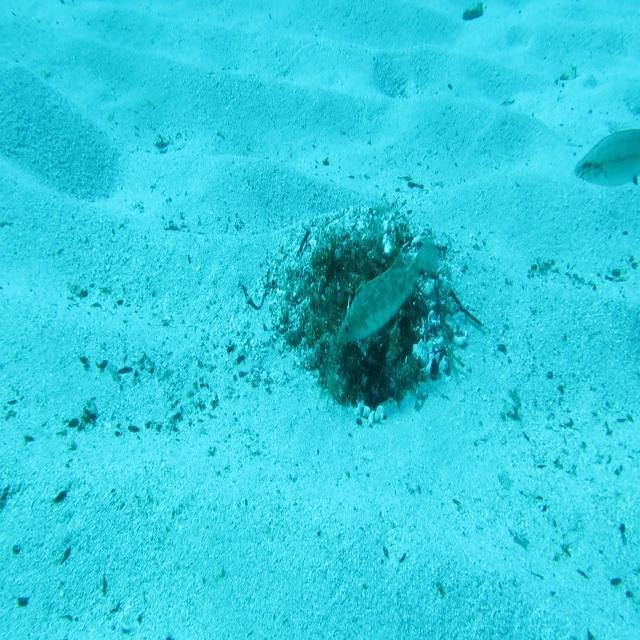NIP_IN: (336, 235, 441, 348)
core_nest: (336, 253, 382, 289)
female: (571, 127, 640, 189)
nest: (258, 190, 486, 440)
vegetation: (461, 4, 487, 25)
